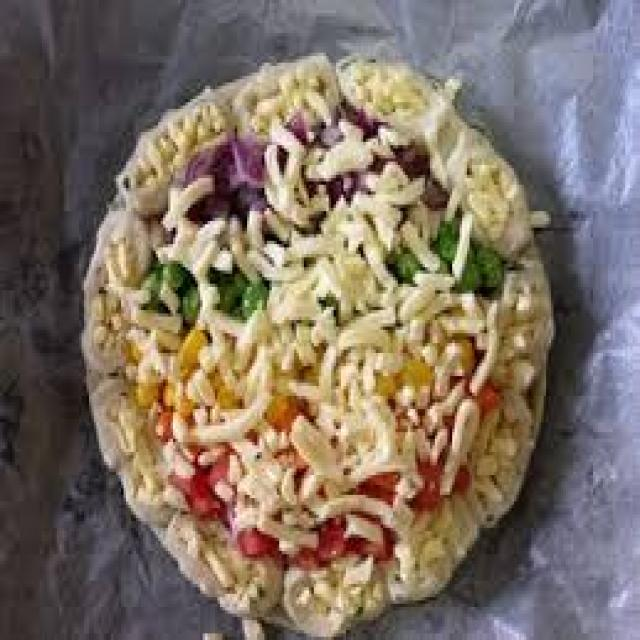food_waste: (82, 53, 551, 633)
